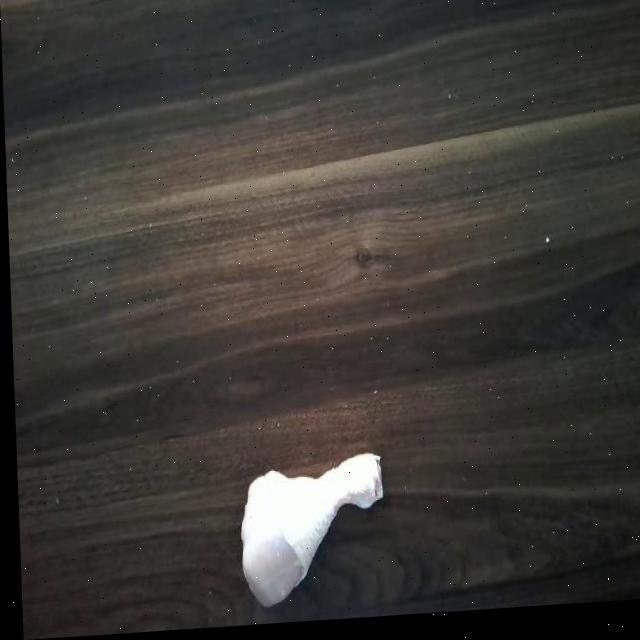leg: (217, 463, 398, 599)
